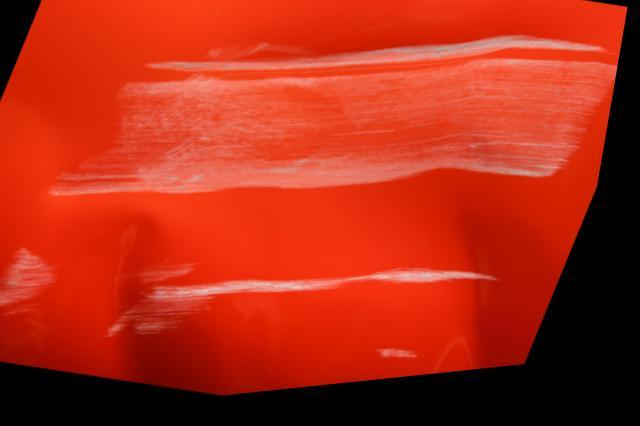dent: (412, 212, 579, 385), (81, 217, 209, 392)
scratch: (45, 34, 624, 201), (120, 268, 515, 339), (0, 245, 67, 319)
